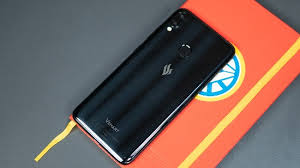vsmart: (70, 7, 241, 167)
